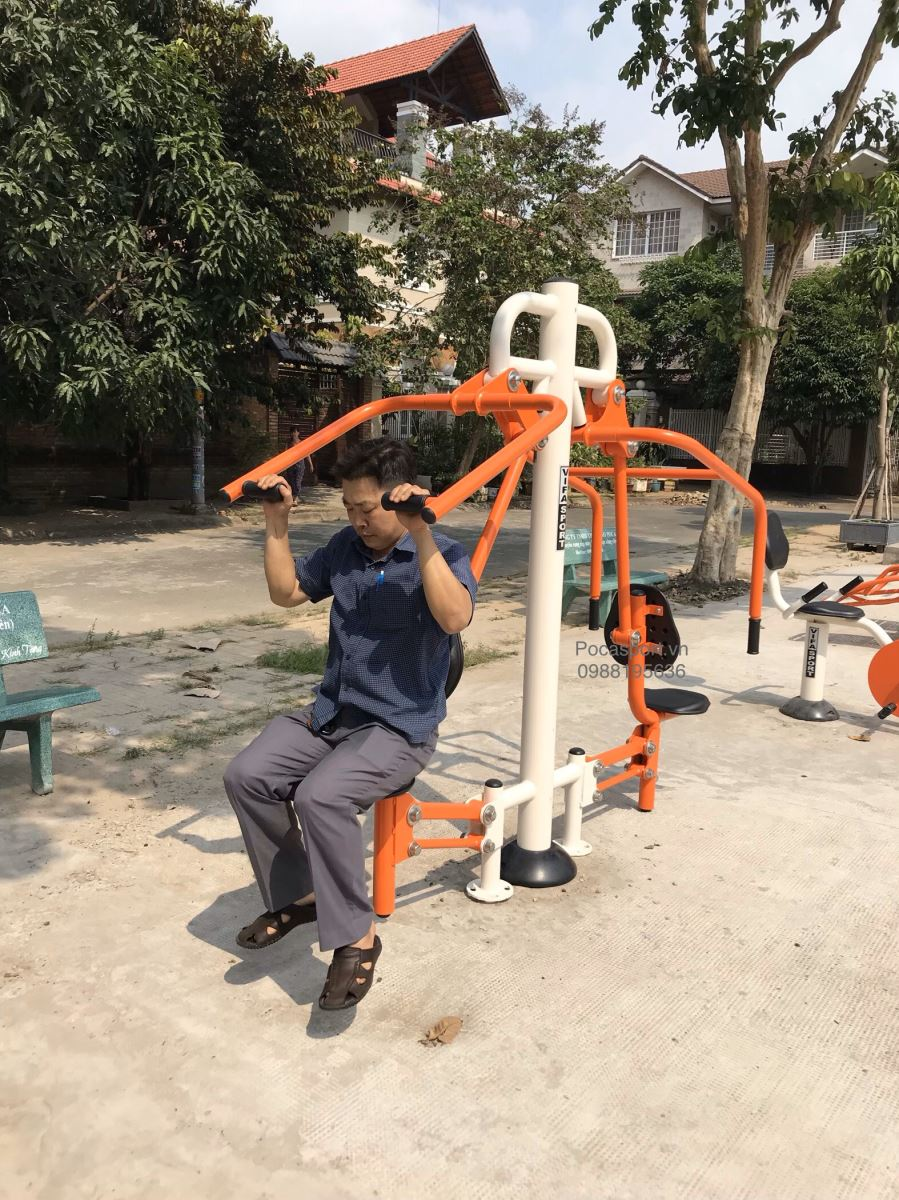person: (209, 431, 479, 1031)
